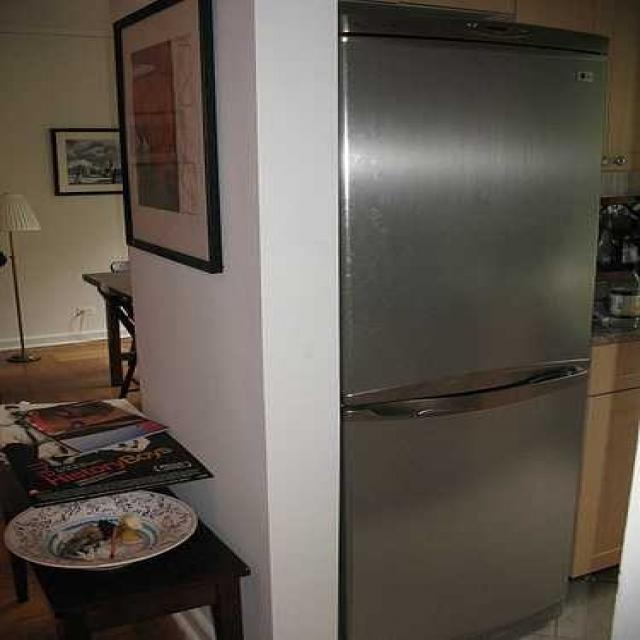refrigerator: (338, 0, 606, 640)
